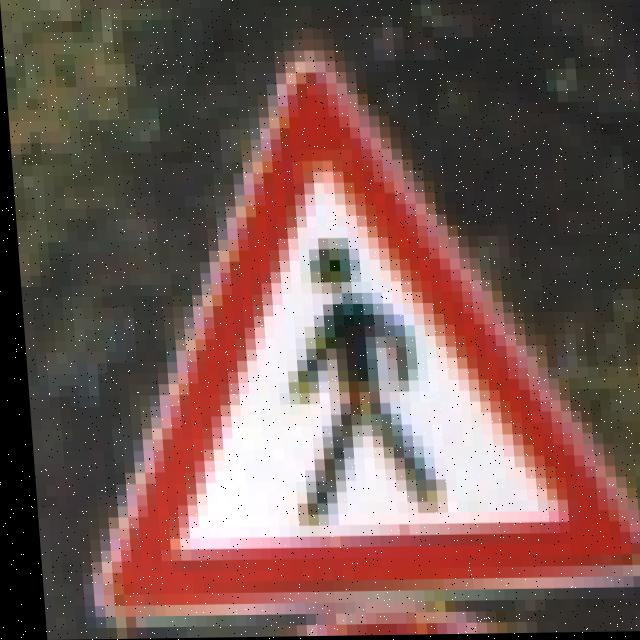crosswalk: (64, 63, 640, 612)
